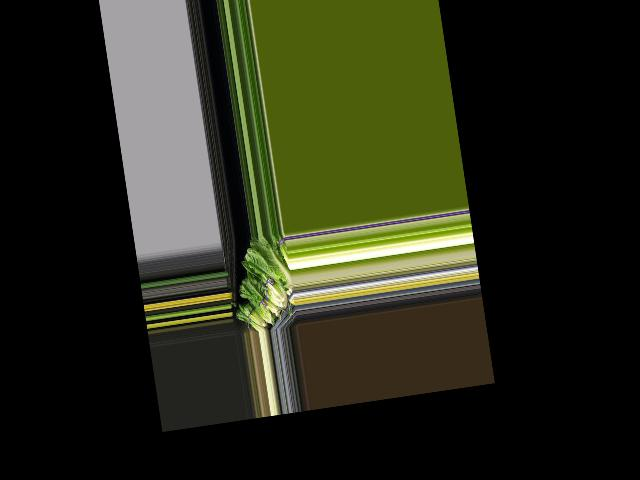lettuce: (244, 234, 290, 293)
